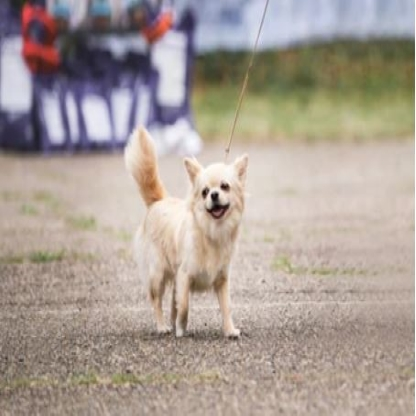chihuahua: (121, 125, 252, 340)
